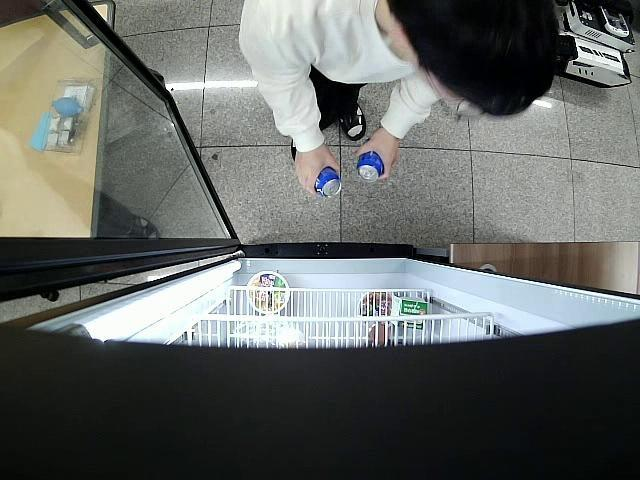13_pocariSweat: (312, 164, 344, 198), (356, 151, 384, 180)
